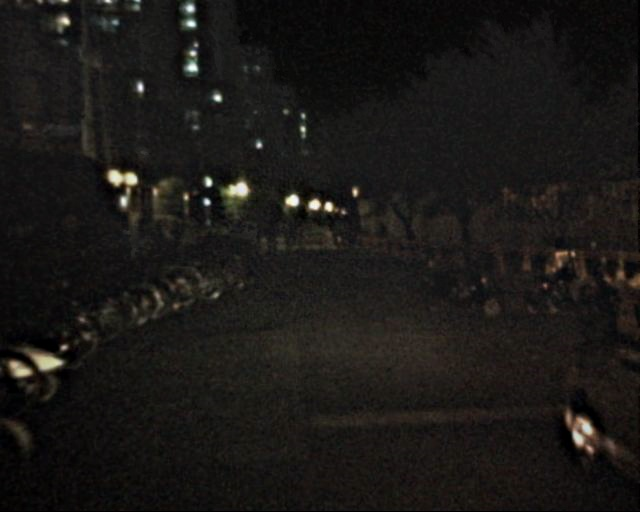person: (121, 226, 139, 271), (279, 219, 297, 262), (227, 222, 259, 246), (262, 221, 278, 261), (152, 224, 168, 263), (374, 221, 389, 257), (171, 227, 185, 262)
